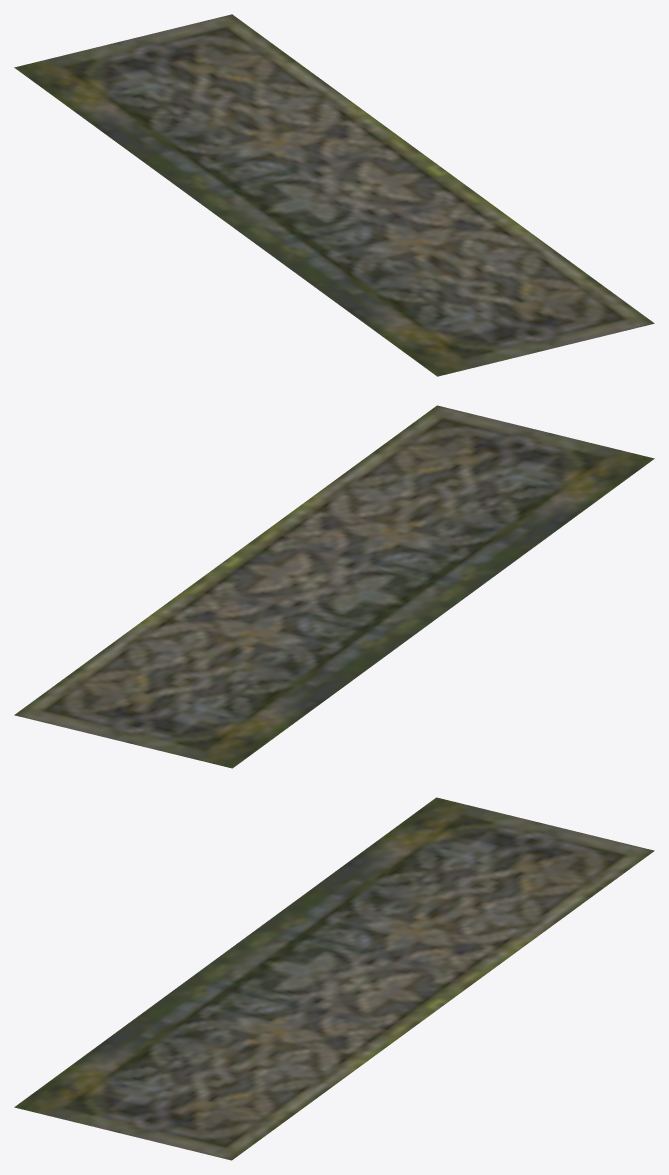
The model's file is S2_Build_XSC072.FBX.
3 views of the same model, one above another, from view 1: azimuth 30°, elevation 25°; view 2: azimuth 150°, elevation 25°; view 3: azimuth 330°, elevation 25° (orthographic).
Visible parts, largest first — view 1: S2_Build_XSC072; view 2: S2_Build_XSC072; view 3: S2_Build_XSC072.
Boxes of the visible parts, box(x1,y1,x2,y2) form: S2_Build_XSC072: box(14, 14, 654, 376); S2_Build_XSC072: box(14, 405, 654, 768); S2_Build_XSC072: box(14, 797, 654, 1160).
Size of the model in its own units: 7.81 by 1.07e-05 by 26.17.
